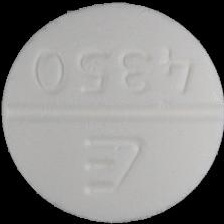43063-710: (0, 0, 224, 224)
